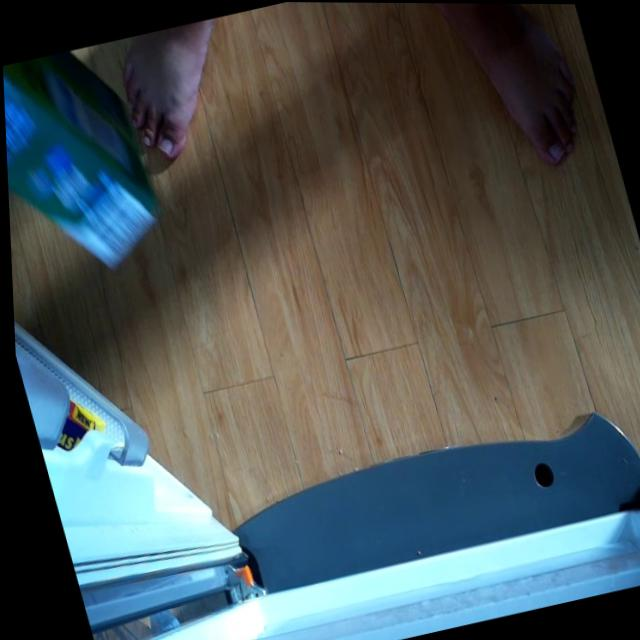milk: (1, 39, 179, 295)
